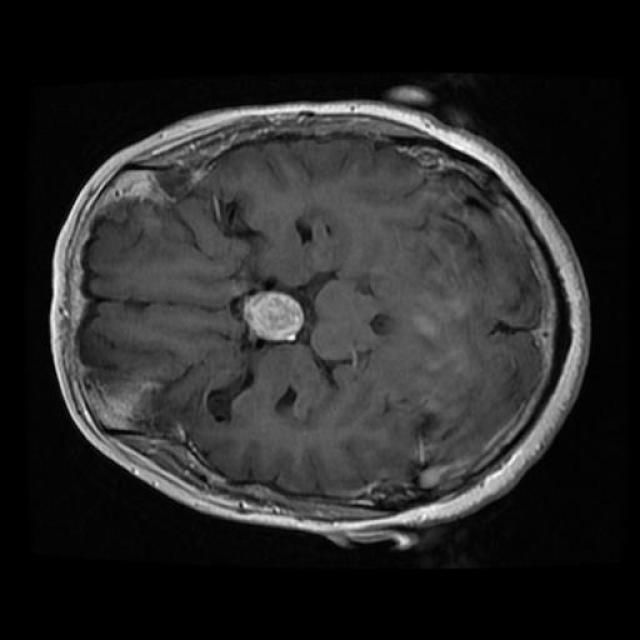Pituitary: (243, 291, 304, 342)
